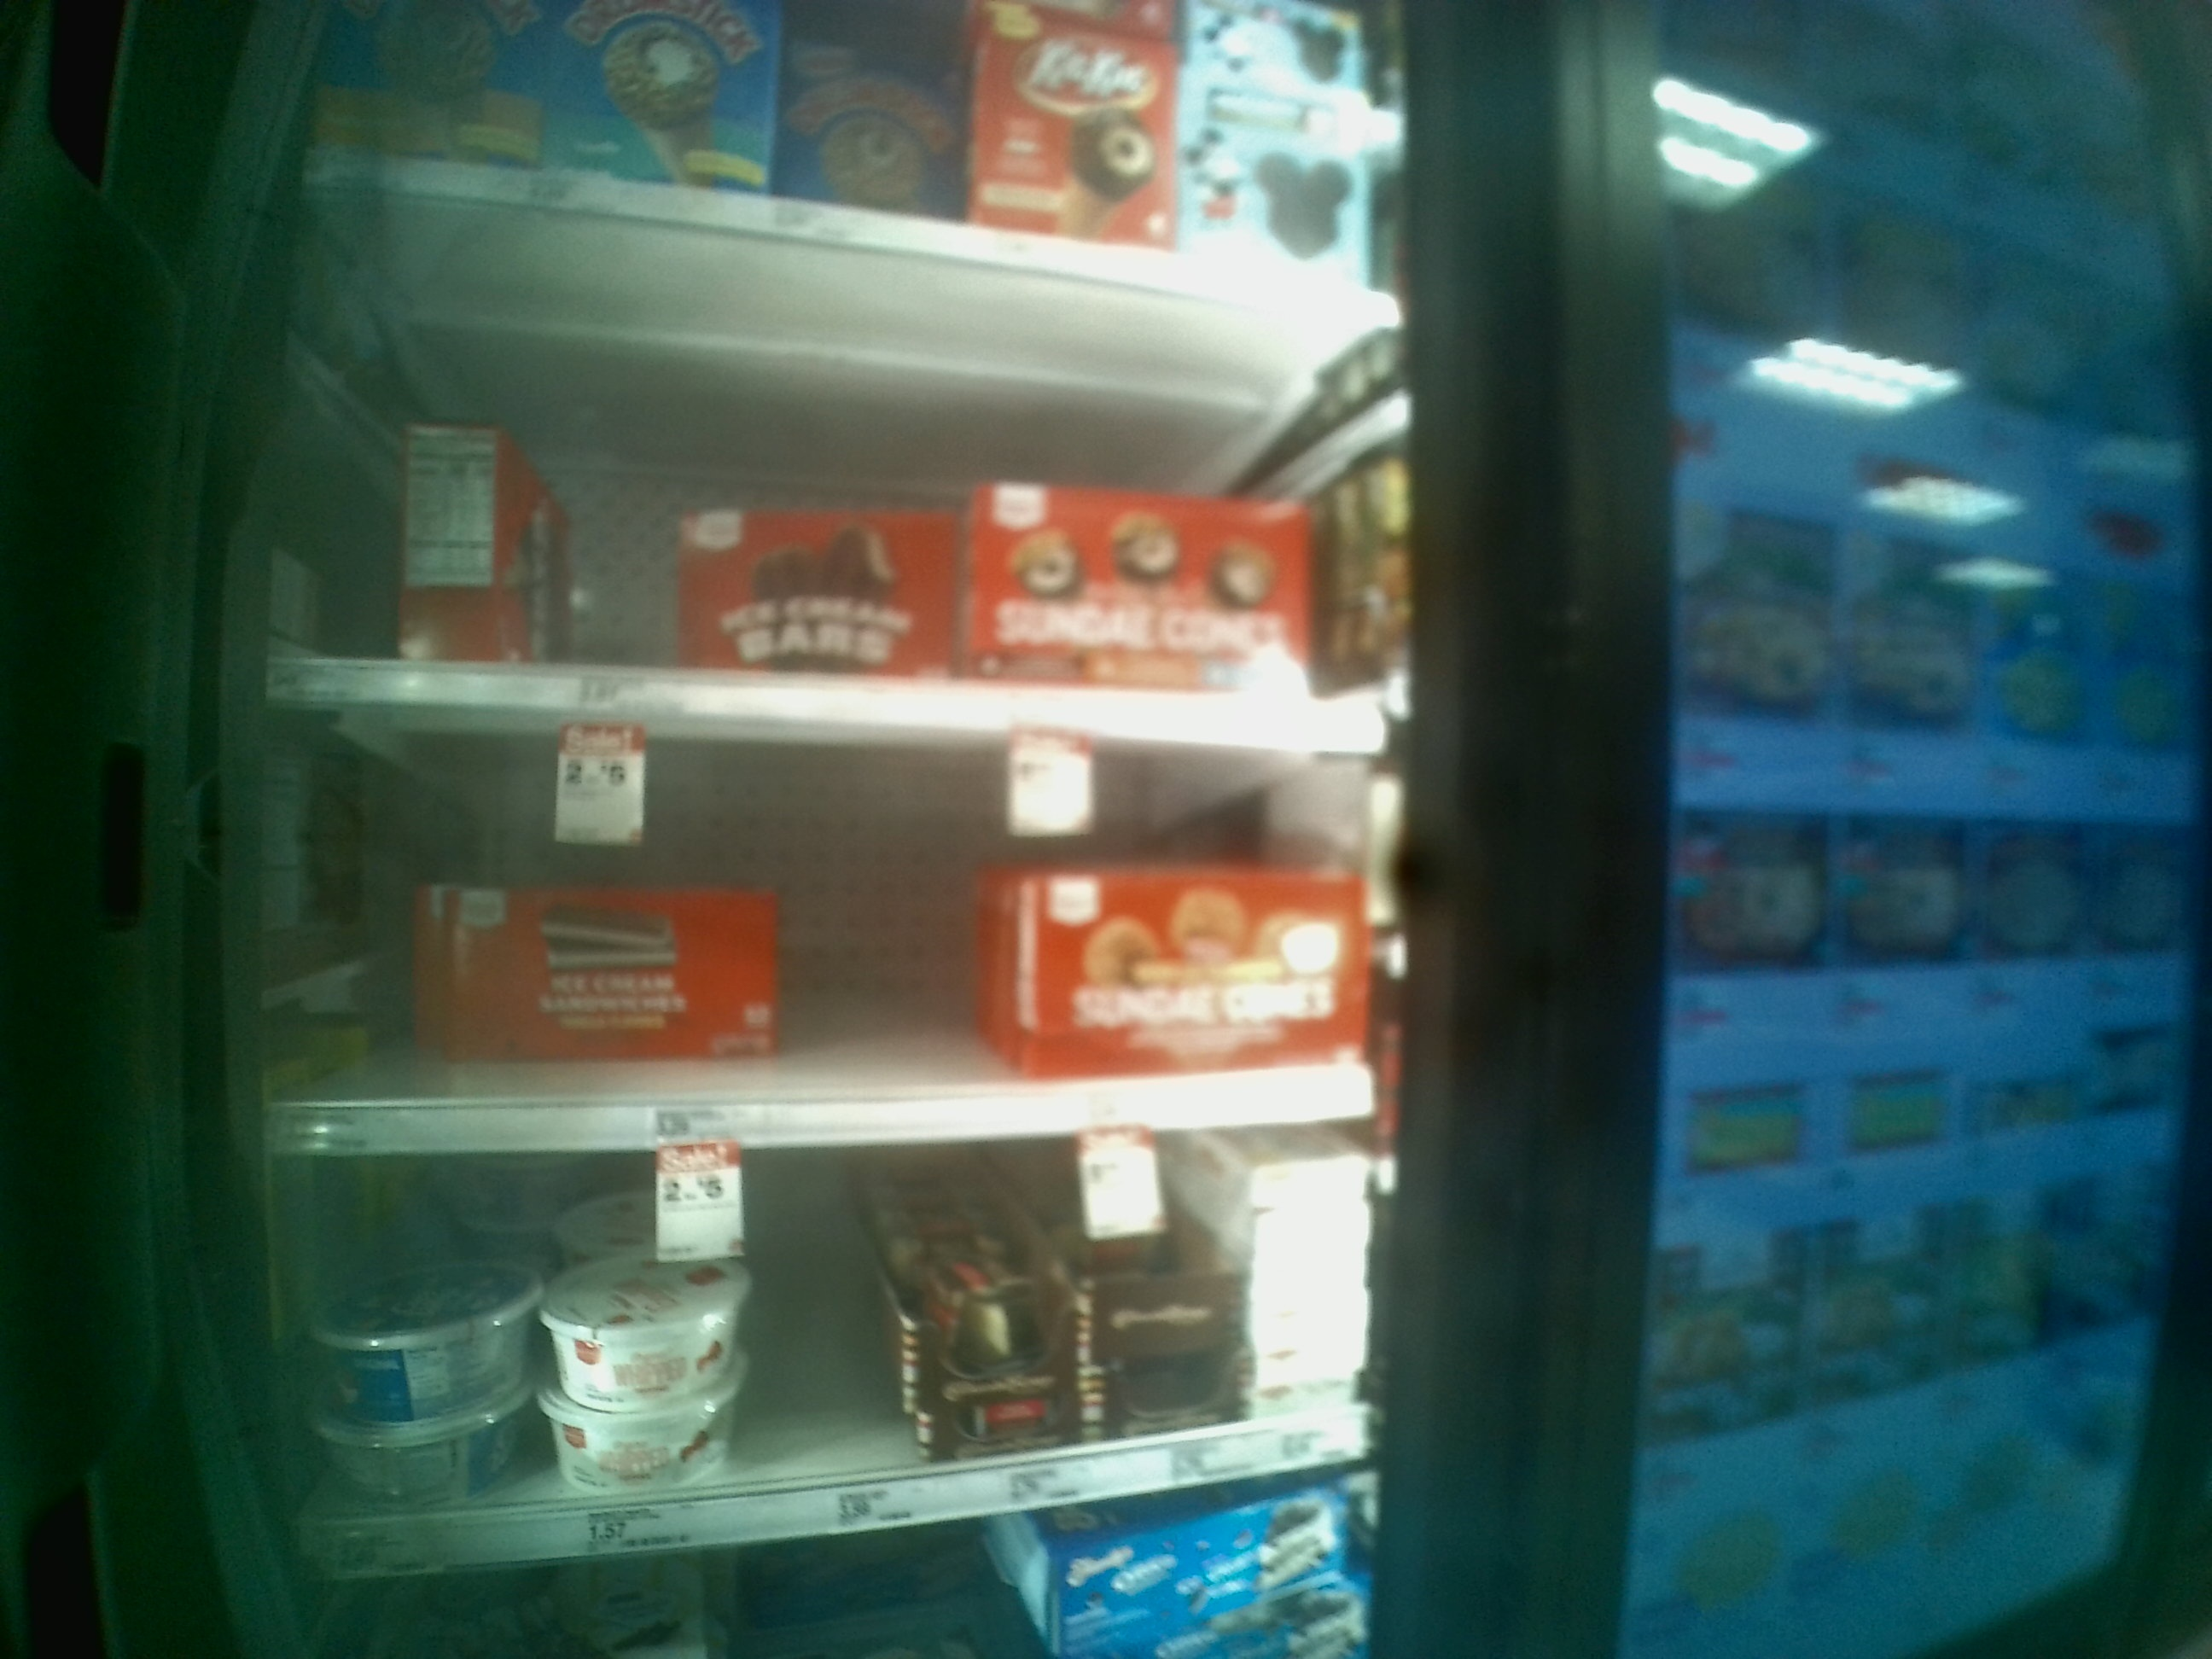frozen-food-shelf: (258, 708, 1400, 1159), (235, 1148, 1404, 1579)
